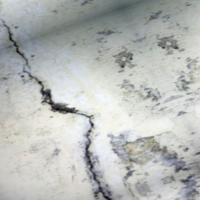crack: (1, 9, 133, 199)
